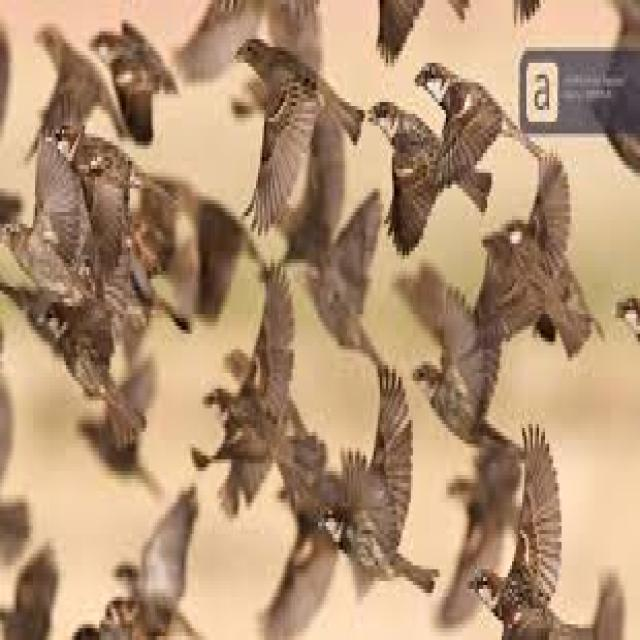bird: (204, 267, 325, 525), (312, 364, 443, 599), (478, 415, 602, 640), (234, 36, 360, 230), (1, 140, 110, 334), (494, 156, 594, 363), (412, 287, 520, 450), (108, 490, 201, 640), (414, 62, 527, 181), (91, 21, 179, 143)
